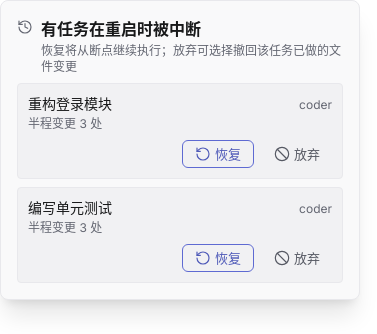
ResumeNotice（v2.6.0 Task 6） › [恢复] → task.resume(taskId) → 该行消散（其余行保留）
Click the button "恢复" below "重构登录模块".
click(218, 154)  # box [182,140,254,168]
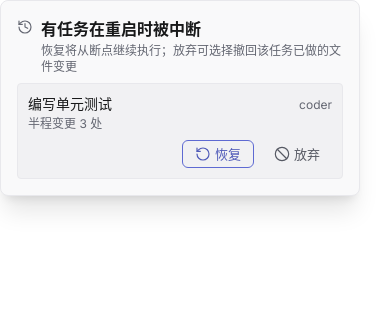
Expected: the text "编写单元测试" is shown, [28,94,112,114]
Expected: the text "重构登录模块" is gone
